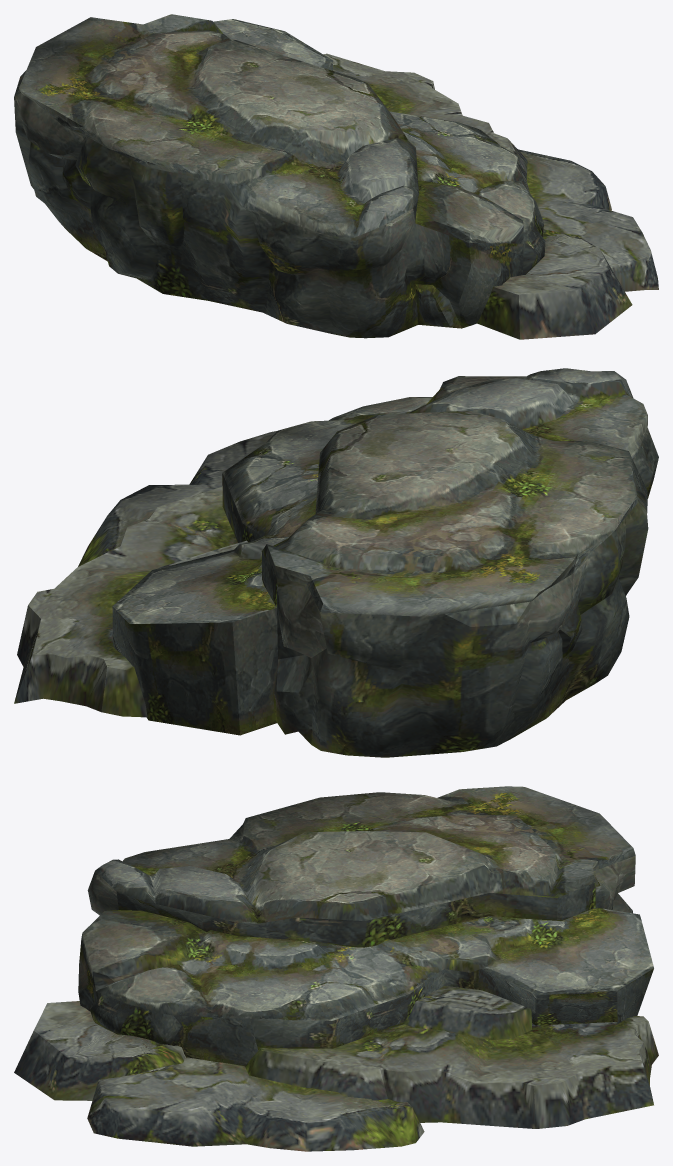
File: 4007_Item_shitou_4.FBX
3 renders of one model, top to bottom at view 1: azimuth 30°, elevation 25°; view 2: azimuth 150°, elevation 25°; view 3: azimuth 270°, elevation 25°, orthographic. The views are drawn at different scales.
Parts seen in each view (by area): view 1: 4007_Item_shitou_4; view 2: 4007_Item_shitou_4; view 3: 4007_Item_shitou_4.
Part boxes in pixels (box(x1,y1,x2,y2)): 4007_Item_shitou_4: box(14, 14, 658, 339); 4007_Item_shitou_4: box(14, 368, 658, 757); 4007_Item_shitou_4: box(14, 786, 658, 1151).
Bounding box in the file's own units: 359 × 119 × 427.
